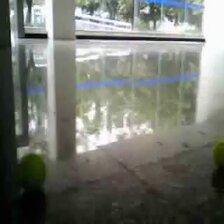tennis: (19, 152, 45, 191), (214, 141, 224, 174)
